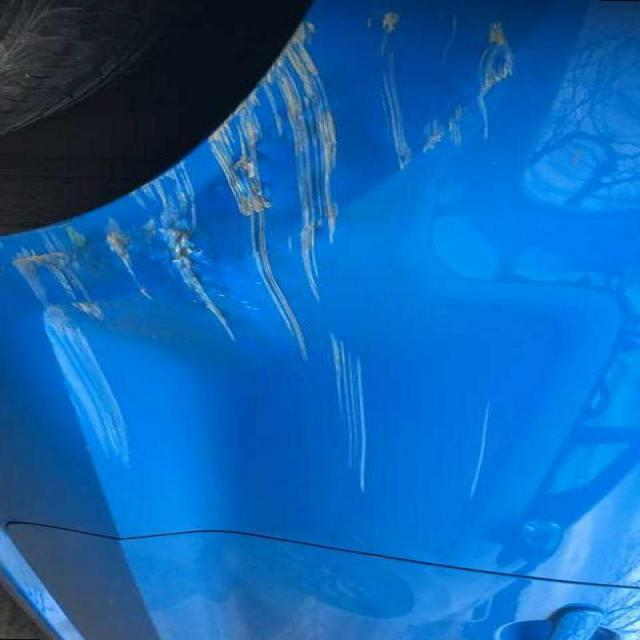scratch: (8, 9, 367, 347), (377, 12, 524, 182), (39, 350, 154, 473), (306, 334, 388, 491), (452, 399, 507, 510)
